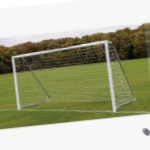goals: (11, 38, 140, 113)
